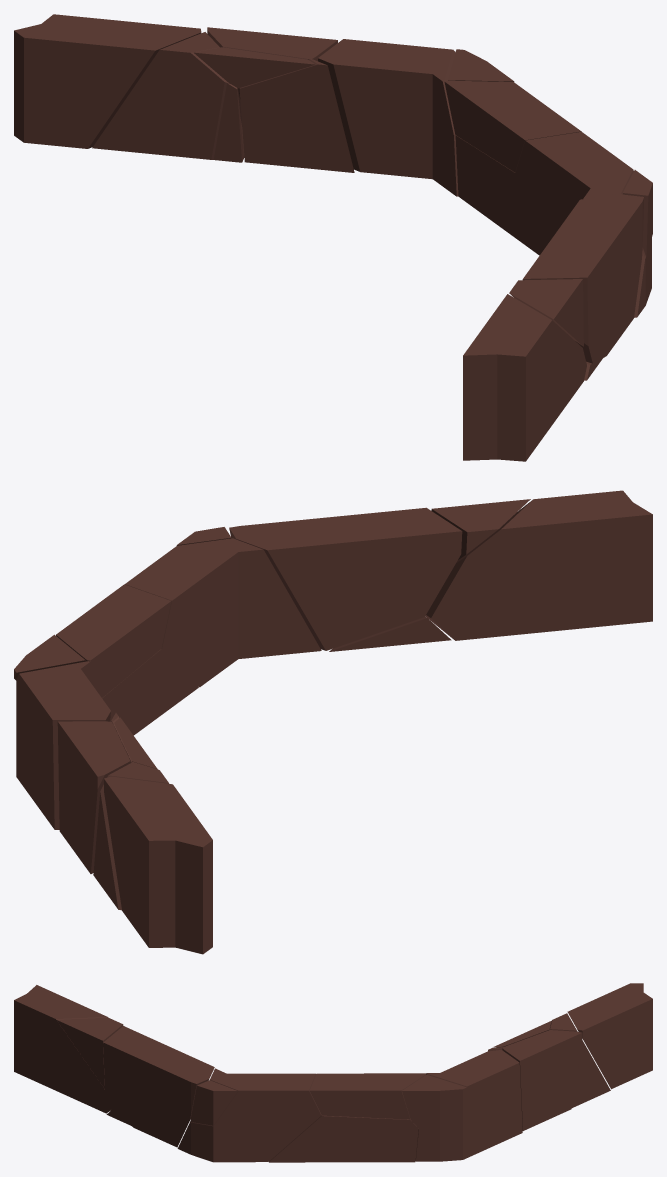
The model's file is SM_Timber_Foundation_Bay.fbx.
3 views of the same model, one above another, from view 1: azimuth 30°, elevation 25°; view 2: azimuth 150°, elevation 25°; view 3: azimuth 270°, elevation 25° (orthographic). The views are drawn at different scales.
Visible parts, largest first — view 1: SM_Timber_Foundation_Bay; view 2: SM_Timber_Foundation_Bay; view 3: SM_Timber_Foundation_Bay.
Part boxes in pixels (left/top/right/bottom): SM_Timber_Foundation_Bay: left=14, top=14, right=652, bottom=461; SM_Timber_Foundation_Bay: left=14, top=490, right=652, bottom=954; SM_Timber_Foundation_Bay: left=14, top=983, right=652, bottom=1162.
Size of the model in its own units: 127 by 39.59 by 319.
